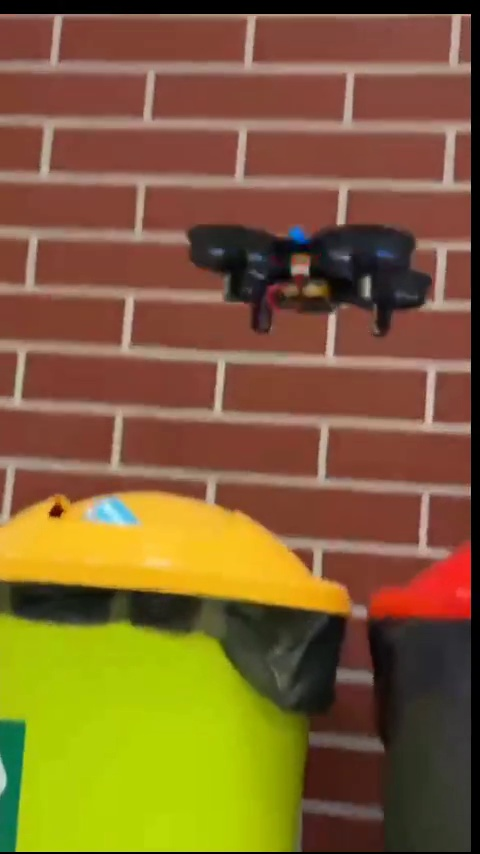drone: (189, 225, 446, 346)
